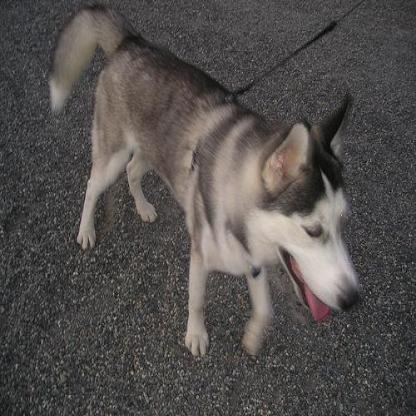Siberian_husky: (47, 5, 366, 356)
